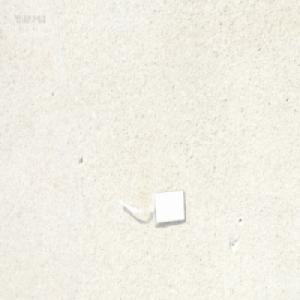LuggageTag: (113, 184, 185, 226)
